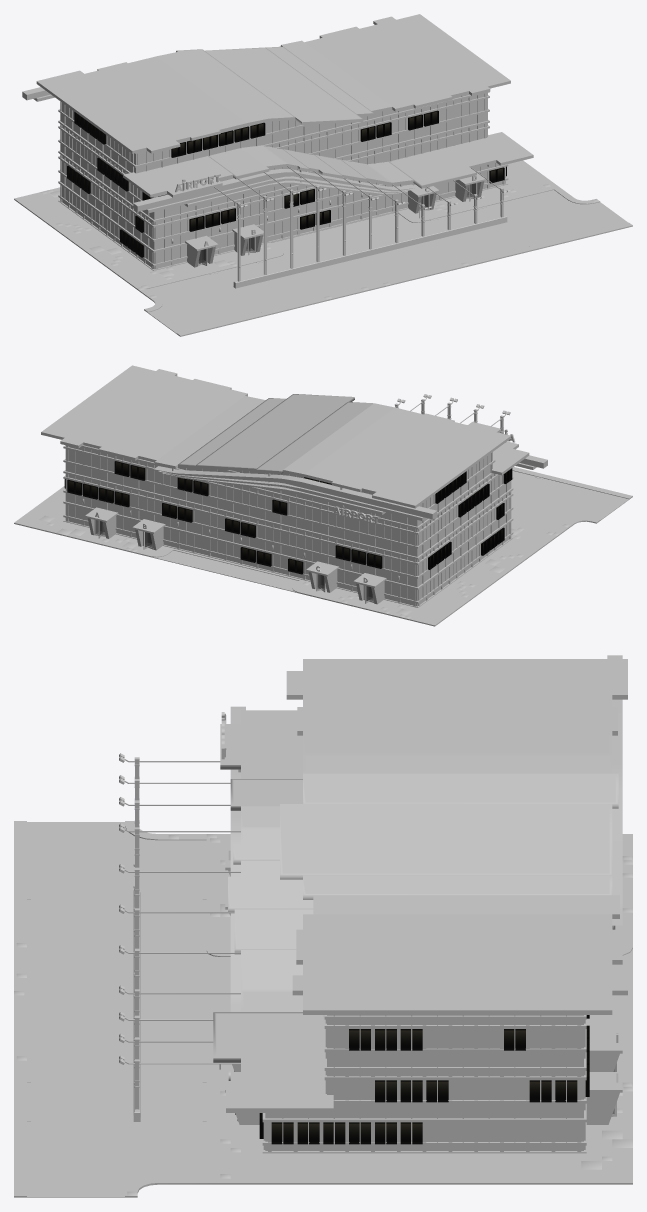
The model's file is TP_Airport_01A.fbx.
3 views of the same model, one above another, from view 1: azimuth 30°, elevation 25°; view 2: azimuth 150°, elevation 25°; view 3: azimuth 270°, elevation 25° (orthographic). The views are drawn at different scales.
Parts seen in each view (by area): view 1: TP_Airport_01A, TP_Airport_01A_Road, TP_Airport_01A_Lights; view 2: TP_Airport_01A, TP_Airport_01A_Lights, TP_Airport_01A_Road; view 3: TP_Airport_01A, TP_Airport_01A_Road, TP_Airport_01A_Lights.
Boxes of the visible parts, x1,y1,x2,y2 form: TP_Airport_01A: (14, 14, 555, 288); TP_Airport_01A_Road: (135, 185, 632, 336); TP_Airport_01A_Lights: (67, 110, 506, 257); TP_Airport_01A: (14, 365, 556, 626); TP_Airport_01A_Lights: (64, 461, 512, 574); TP_Airport_01A_Road: (511, 467, 632, 537); TP_Airport_01A: (119, 655, 632, 1184); TP_Airport_01A_Road: (14, 821, 220, 1197); TP_Airport_01A_Lights: (259, 1015, 589, 1144).
Bounding box in the file's own units: 86 × 20.9 × 60.
